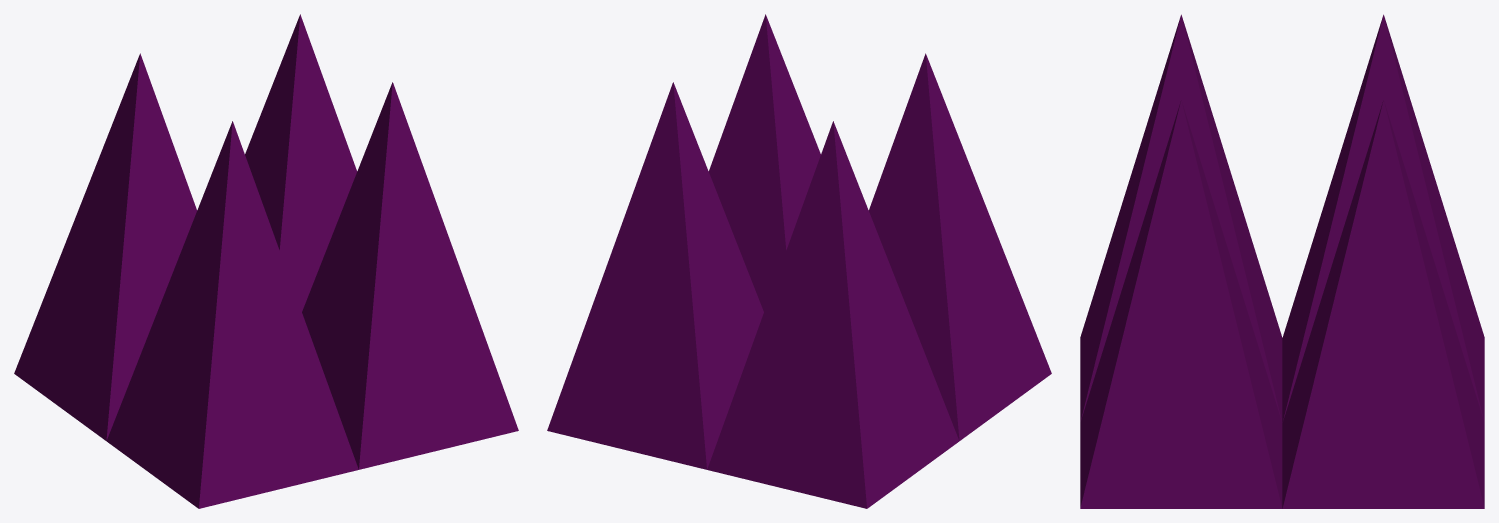
The model's file is spike.glb.
The picture shows the model from 3 angles, left to right: view 1: azimuth 30°, elevation 25°; view 2: azimuth 150°, elevation 25°; view 3: azimuth 270°, elevation 25°; orthographic projection. The views are drawn at different scales.
Visible parts, largest first — view 1: Cube; view 2: Cube; view 3: Cube.
Boxes of the visible parts, box(x1,y1,x2,y2) form: Cube: box(14, 14, 518, 508); Cube: box(547, 14, 1051, 508); Cube: box(1080, 14, 1484, 508).
Size of the model in its own units: 1 by 1 by 1.
